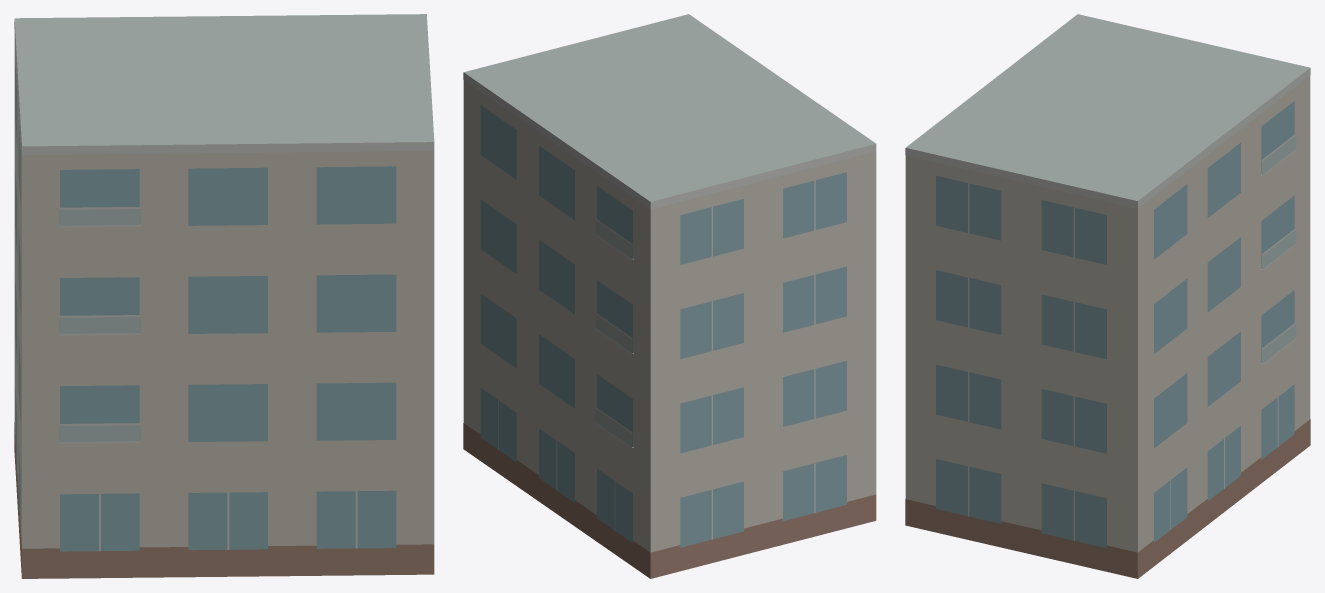
File: residential-800f09ed-ee84-4e18-a3bd-cdf20794fd8e.glb
The picture shows the model from 3 angles, left to right: view 1: azimuth 30°, elevation 25°; view 2: azimuth 150°, elevation 25°; view 3: azimuth 270°, elevation 25°; orthographic projection. The views are drawn at different scales.
Visible parts, largest first — view 1: residential-800f09ed-ee84-4e18-a3bd-cdf20794fd8e.tmp; view 2: residential-800f09ed-ee84-4e18-a3bd-cdf20794fd8e.tmp; view 3: residential-800f09ed-ee84-4e18-a3bd-cdf20794fd8e.tmp.
Part boxes in pixels (x1=…): residential-800f09ed-ee84-4e18-a3bd-cdf20794fd8e.tmp: x1=14, y1=14, x2=434, y2=578; residential-800f09ed-ee84-4e18-a3bd-cdf20794fd8e.tmp: x1=463, y1=14, x2=876, y2=578; residential-800f09ed-ee84-4e18-a3bd-cdf20794fd8e.tmp: x1=905, y1=14, x2=1310, y2=578.
Bounding box in the file's own units: 12.98 × 12.2 × 11.87.
